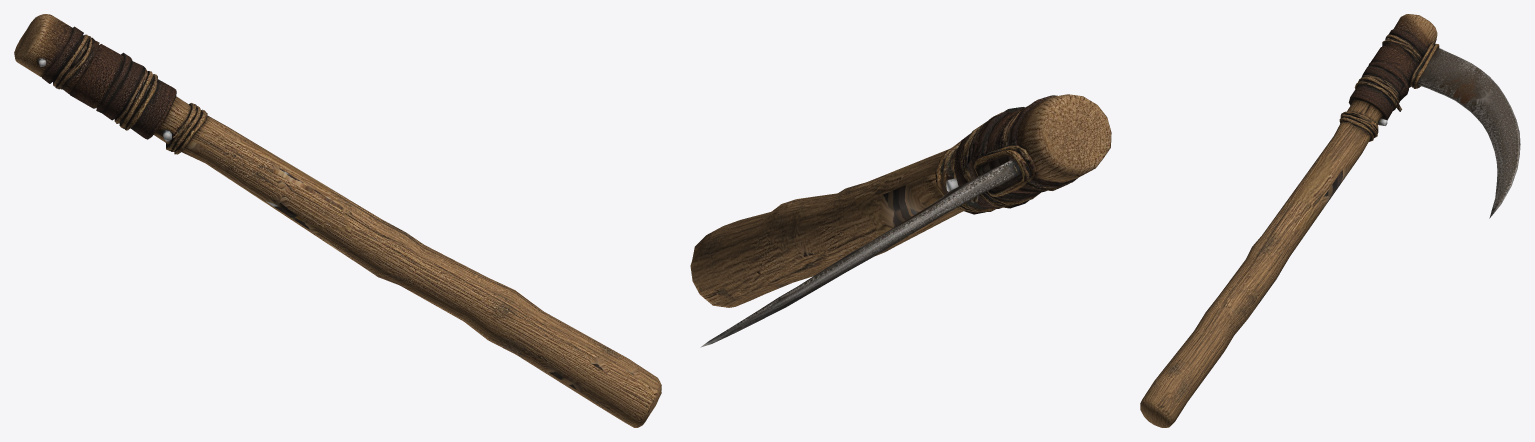
File: tripo_convert_6112994e-fd15-4945-bdbb-cb3eef050f7a.fbx
3 renders of one model, left to right at view 1: azimuth 30°, elevation 25°; view 2: azimuth 150°, elevation 25°; view 3: azimuth 270°, elevation 25°, orthographic. The views are drawn at different scales.
Visible parts, largest first — view 1: tripo_node_6112994e; view 2: tripo_node_6112994e; view 3: tripo_node_6112994e.
Boxes of the visible parts, x1,y1,x2,y2 form: tripo_node_6112994e: [14, 14, 661, 427]; tripo_node_6112994e: [690, 94, 1111, 347]; tripo_node_6112994e: [1140, 14, 1520, 427].
Bounding box in the file's own units: 0.998 × 0.7793 × 0.998.
Materials: 1 (1 with a texture image).
